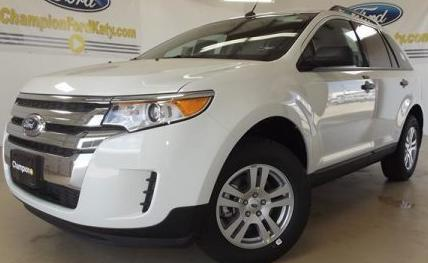front_view: (9, 89, 221, 228)
headlight: (109, 82, 224, 147)
side_glass: (311, 15, 404, 73)
